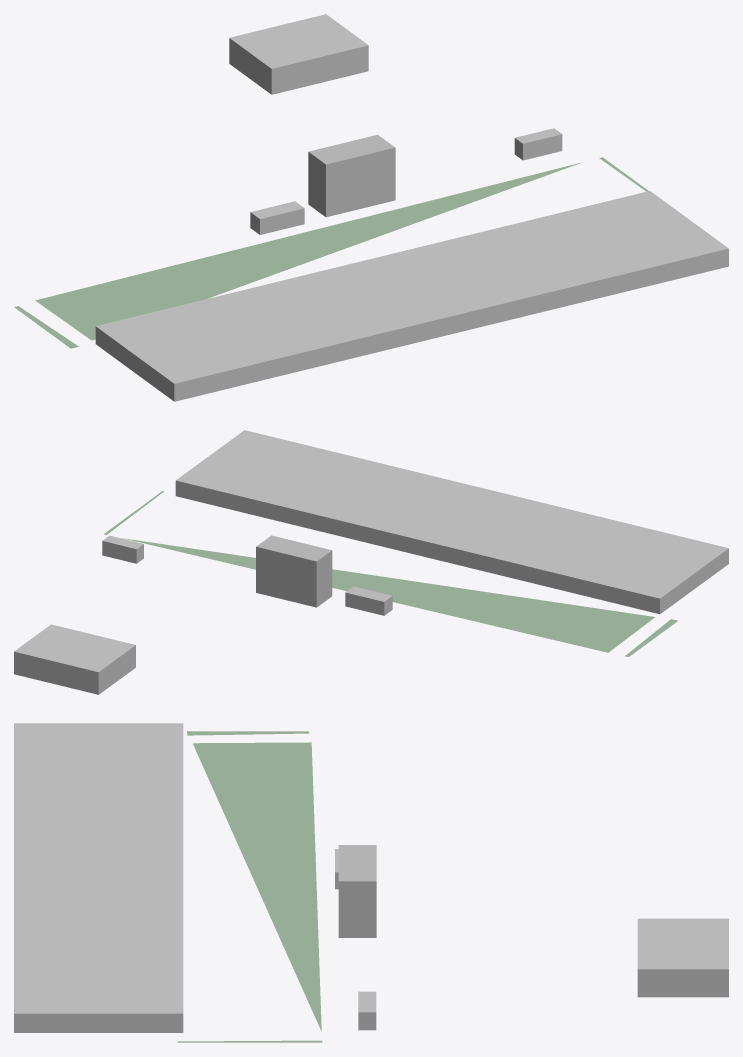
File: 133_109_mid.glb
The picture shows the model from 3 angles, top to bottom: view 1: azimuth 30°, elevation 25°; view 2: azimuth 150°, elevation 25°; view 3: azimuth 270°, elevation 25°; orthographic projection. The views are drawn at different scales.
Bounding box in the file's own units: 500 × 42.7 × 485.
